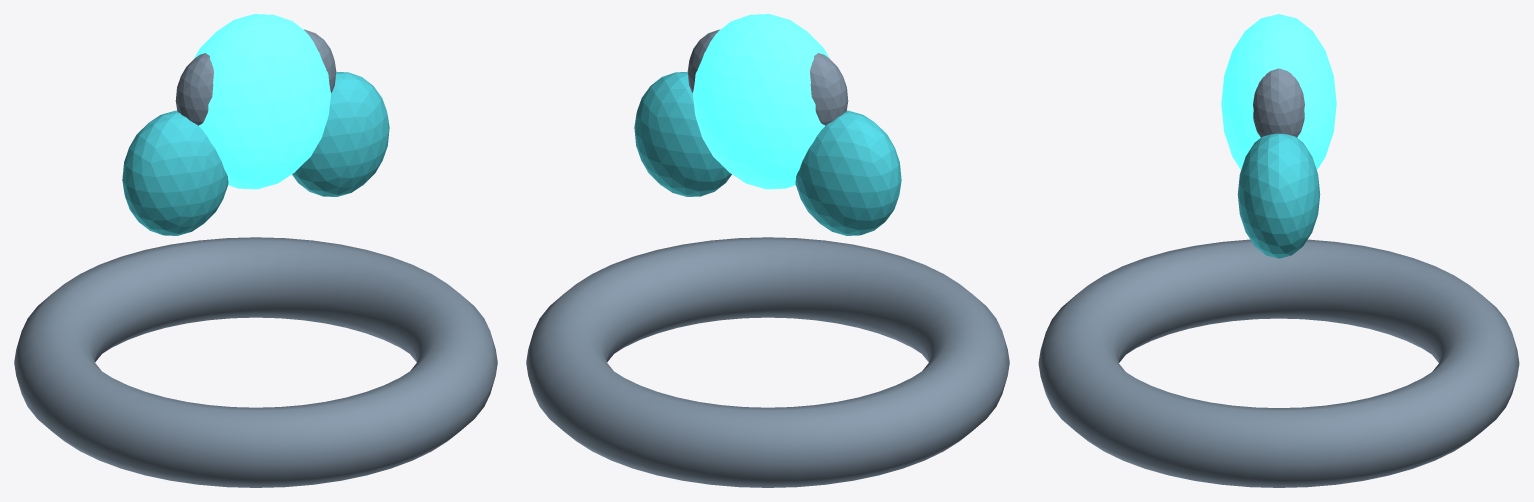
The model's file is ring_v6.glb.
The picture shows the model from 3 angles, left to right: view 1: azimuth 30°, elevation 25°; view 2: azimuth 150°, elevation 25°; view 3: azimuth 270°, elevation 25°; orthographic projection.
Parts seen in each view (by area): view 1: CLUSTER_BAND_PRIMARY, CLUSTER_GEM_EMISSIVE, CLUSTER_GEM_ACCENT, CLUSTER_GEM_ACCENT.001, CLUSTER_GEM_PRIMARY, CLUSTER_GEM_PRIMARY.001; view 2: CLUSTER_BAND_PRIMARY, CLUSTER_GEM_EMISSIVE, CLUSTER_GEM_ACCENT, CLUSTER_GEM_ACCENT.001, CLUSTER_GEM_PRIMARY, CLUSTER_GEM_PRIMARY.001; view 3: CLUSTER_BAND_PRIMARY, CLUSTER_GEM_EMISSIVE, CLUSTER_GEM_ACCENT.001, CLUSTER_GEM_PRIMARY.001.
Boxes of the visible parts, x1,y1,x2,y2 form: CLUSTER_BAND_PRIMARY: (14, 237, 497, 487); CLUSTER_GEM_EMISSIVE: (194, 14, 331, 189); CLUSTER_GEM_ACCENT: (122, 110, 228, 235); CLUSTER_GEM_ACCENT.001: (292, 72, 389, 196); CLUSTER_GEM_PRIMARY: (175, 53, 213, 125); CLUSTER_GEM_PRIMARY.001: (304, 29, 336, 93); CLUSTER_BAND_PRIMARY: (526, 237, 1009, 487); CLUSTER_GEM_EMISSIVE: (692, 14, 829, 189); CLUSTER_GEM_ACCENT: (795, 110, 901, 235); CLUSTER_GEM_ACCENT.001: (634, 72, 731, 196); CLUSTER_GEM_PRIMARY: (810, 53, 848, 125); CLUSTER_GEM_PRIMARY.001: (687, 29, 719, 93); CLUSTER_BAND_PRIMARY: (1038, 239, 1519, 487); CLUSTER_GEM_EMISSIVE: (1221, 14, 1336, 169); CLUSTER_GEM_ACCENT.001: (1237, 133, 1320, 258); CLUSTER_GEM_PRIMARY.001: (1253, 68, 1304, 137).
Size of the model in its own units: 1.68 by 1.46 by 1.68.
